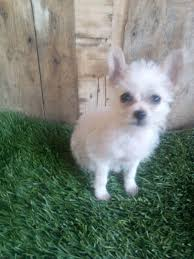chihuahua: (53, 34, 178, 213)
